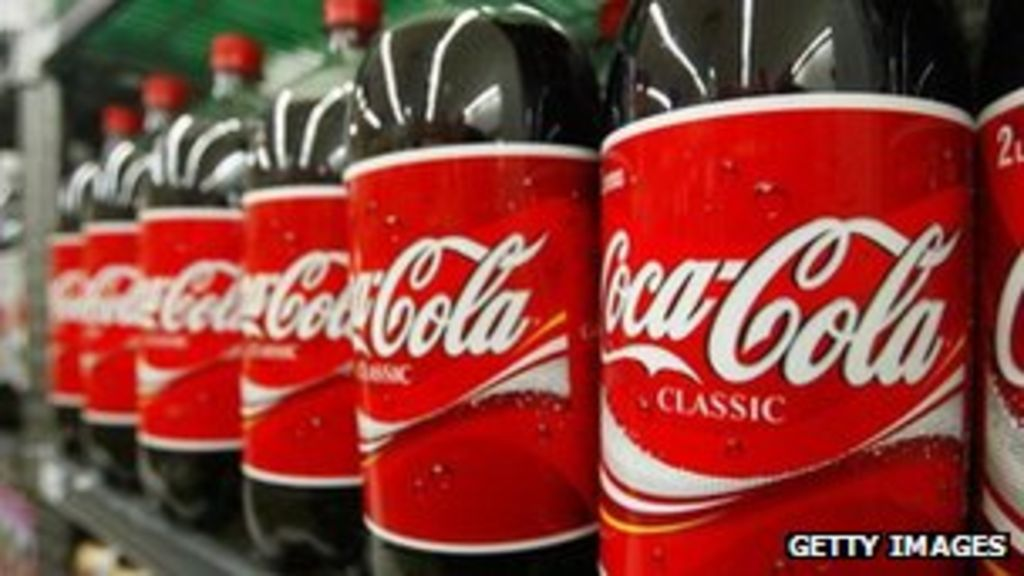coke: (595, 4, 953, 576), (350, 10, 589, 551), (266, 27, 363, 518), (163, 66, 238, 522), (101, 103, 150, 475), (51, 148, 103, 466)
